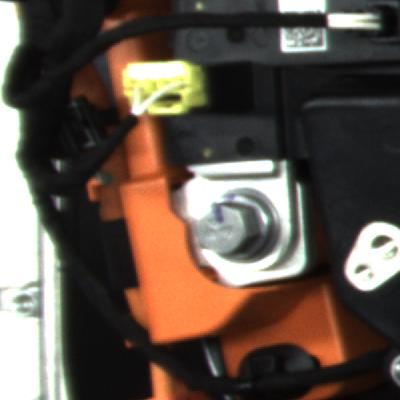nut_b: (189, 181, 290, 271)
